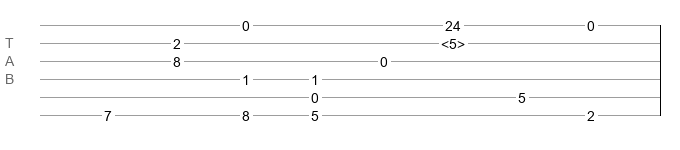0: (242, 18, 250, 28), (311, 90, 319, 100), (380, 54, 388, 64), (587, 18, 595, 28)
1: (242, 72, 250, 82), (311, 72, 319, 82)
2: (173, 36, 181, 46), (587, 108, 595, 118)
24: (445, 18, 461, 28)
5: (311, 108, 319, 118), (518, 90, 526, 100)
7: (104, 108, 112, 118)
8: (173, 54, 181, 64), (242, 108, 250, 118)
harmonic: (441, 36, 465, 46)
